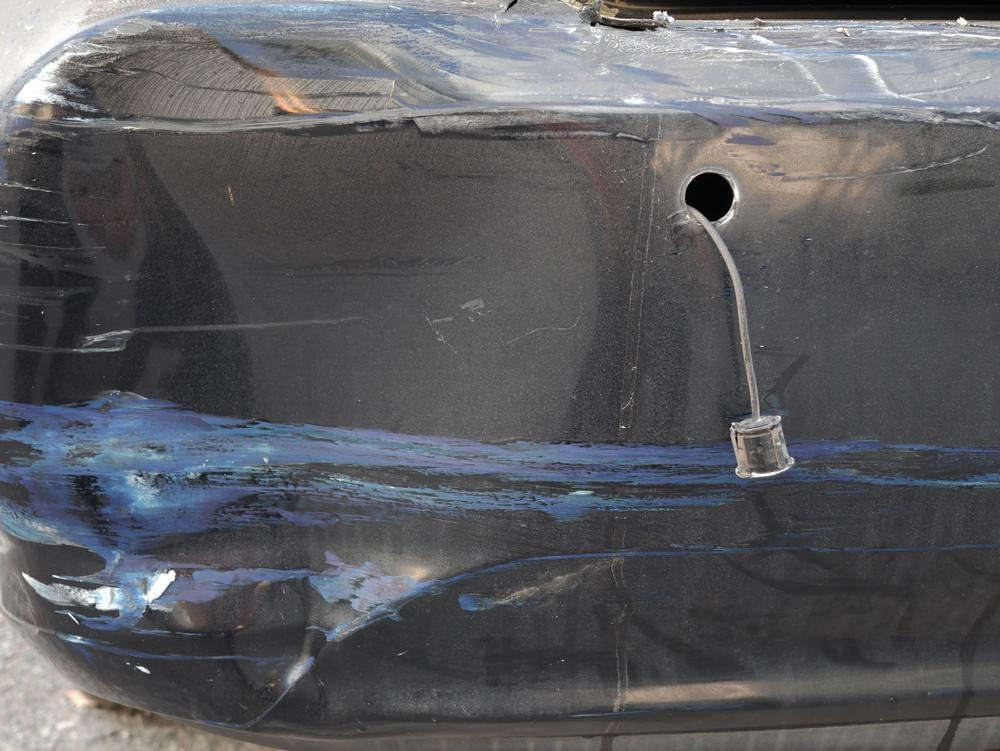dent: (0, 126, 593, 688)
scratch: (0, 0, 1000, 254), (426, 432, 1000, 615), (0, 399, 244, 681)
